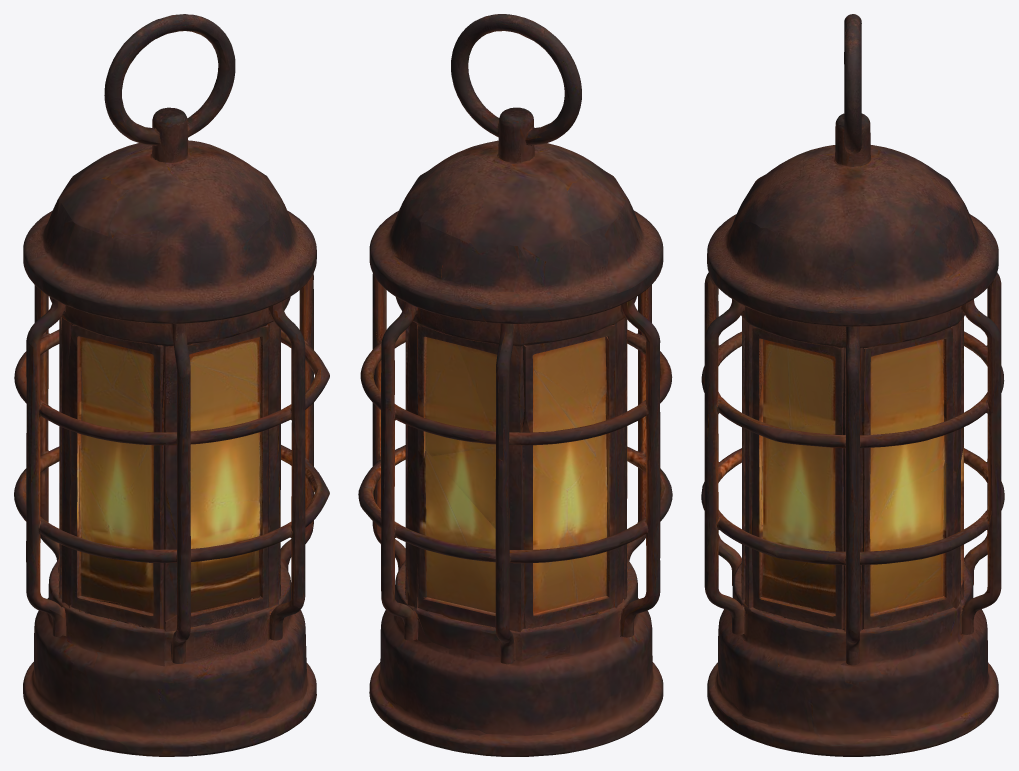
The model's file is hf_minelantern.glb.
3 views of the same model, side by side, from view 1: azimuth 30°, elevation 25°; view 2: azimuth 150°, elevation 25°; view 3: azimuth 270°, elevation 25° (orthographic).
Bounding box in the file's own units: 0.8359 × 1.9 × 0.7738.
1 material, 1 textured.
